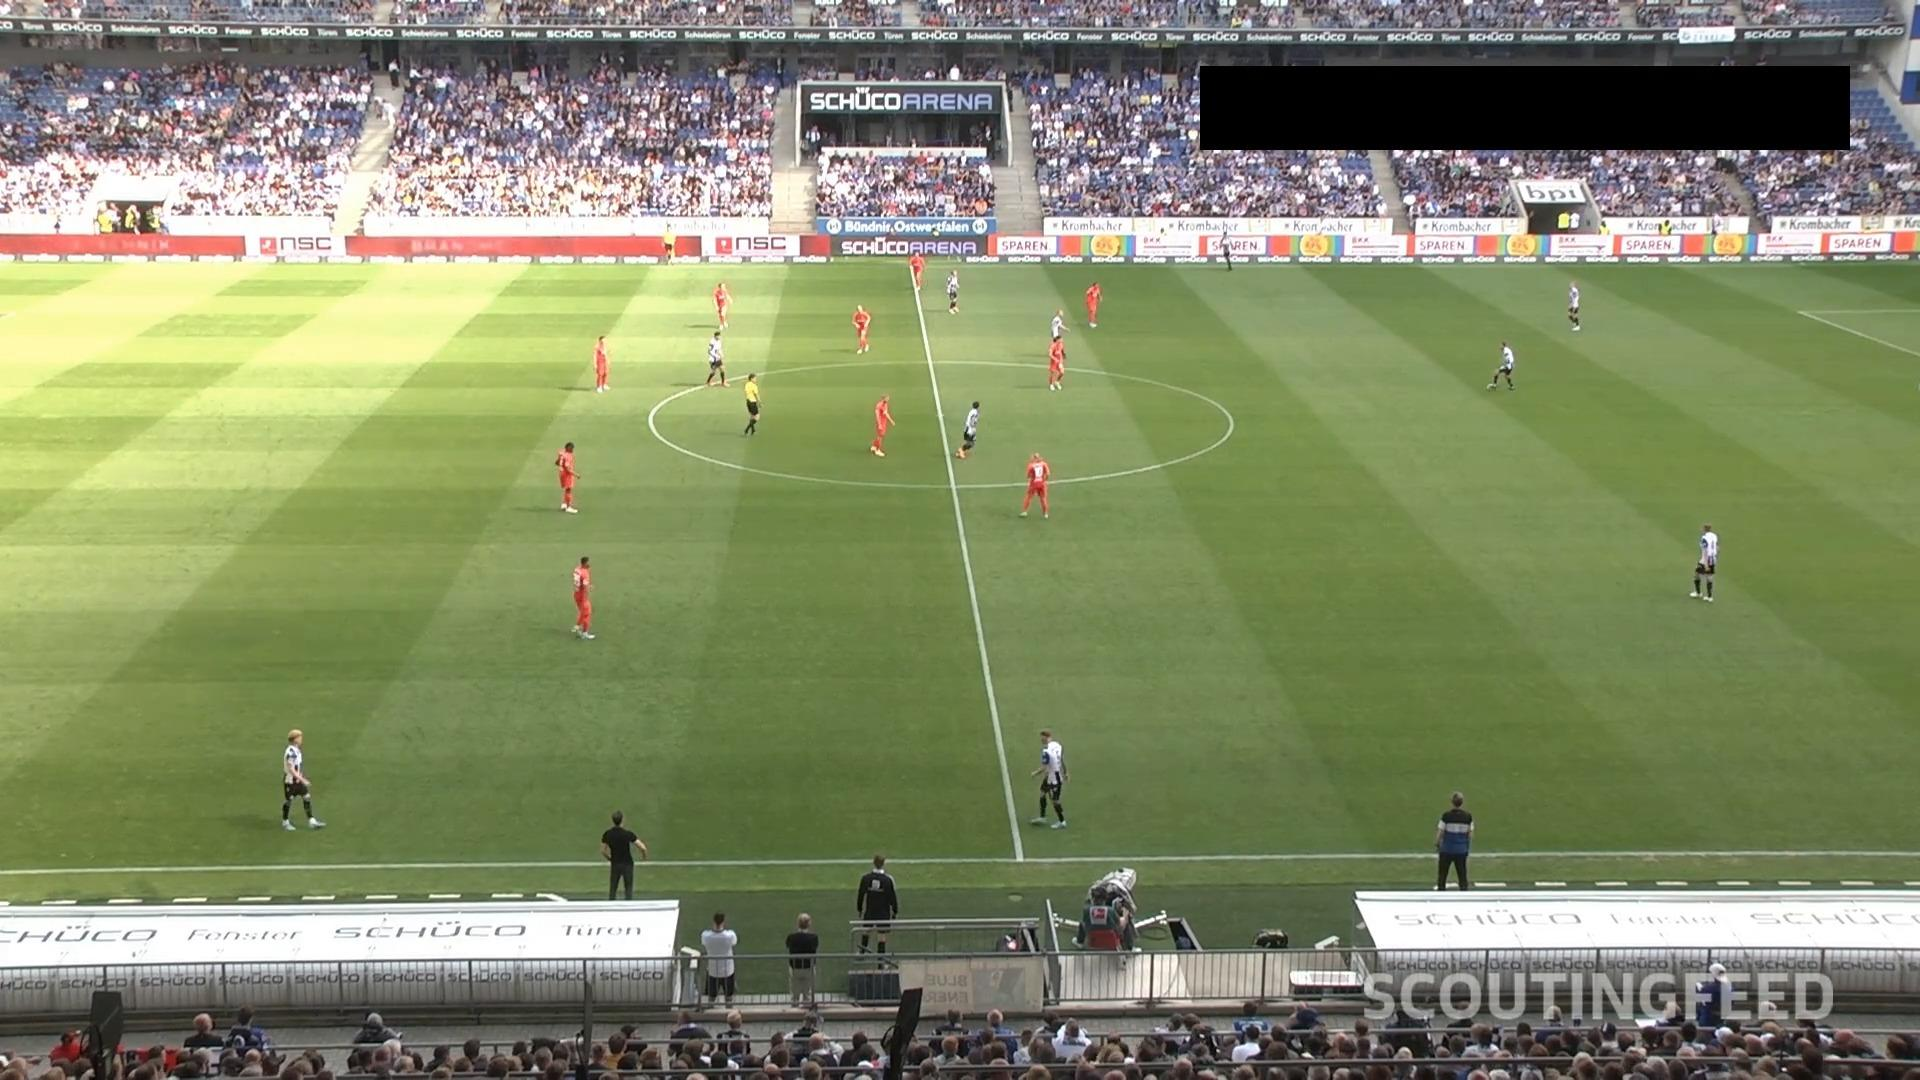ball: (1485, 381, 1495, 392)
